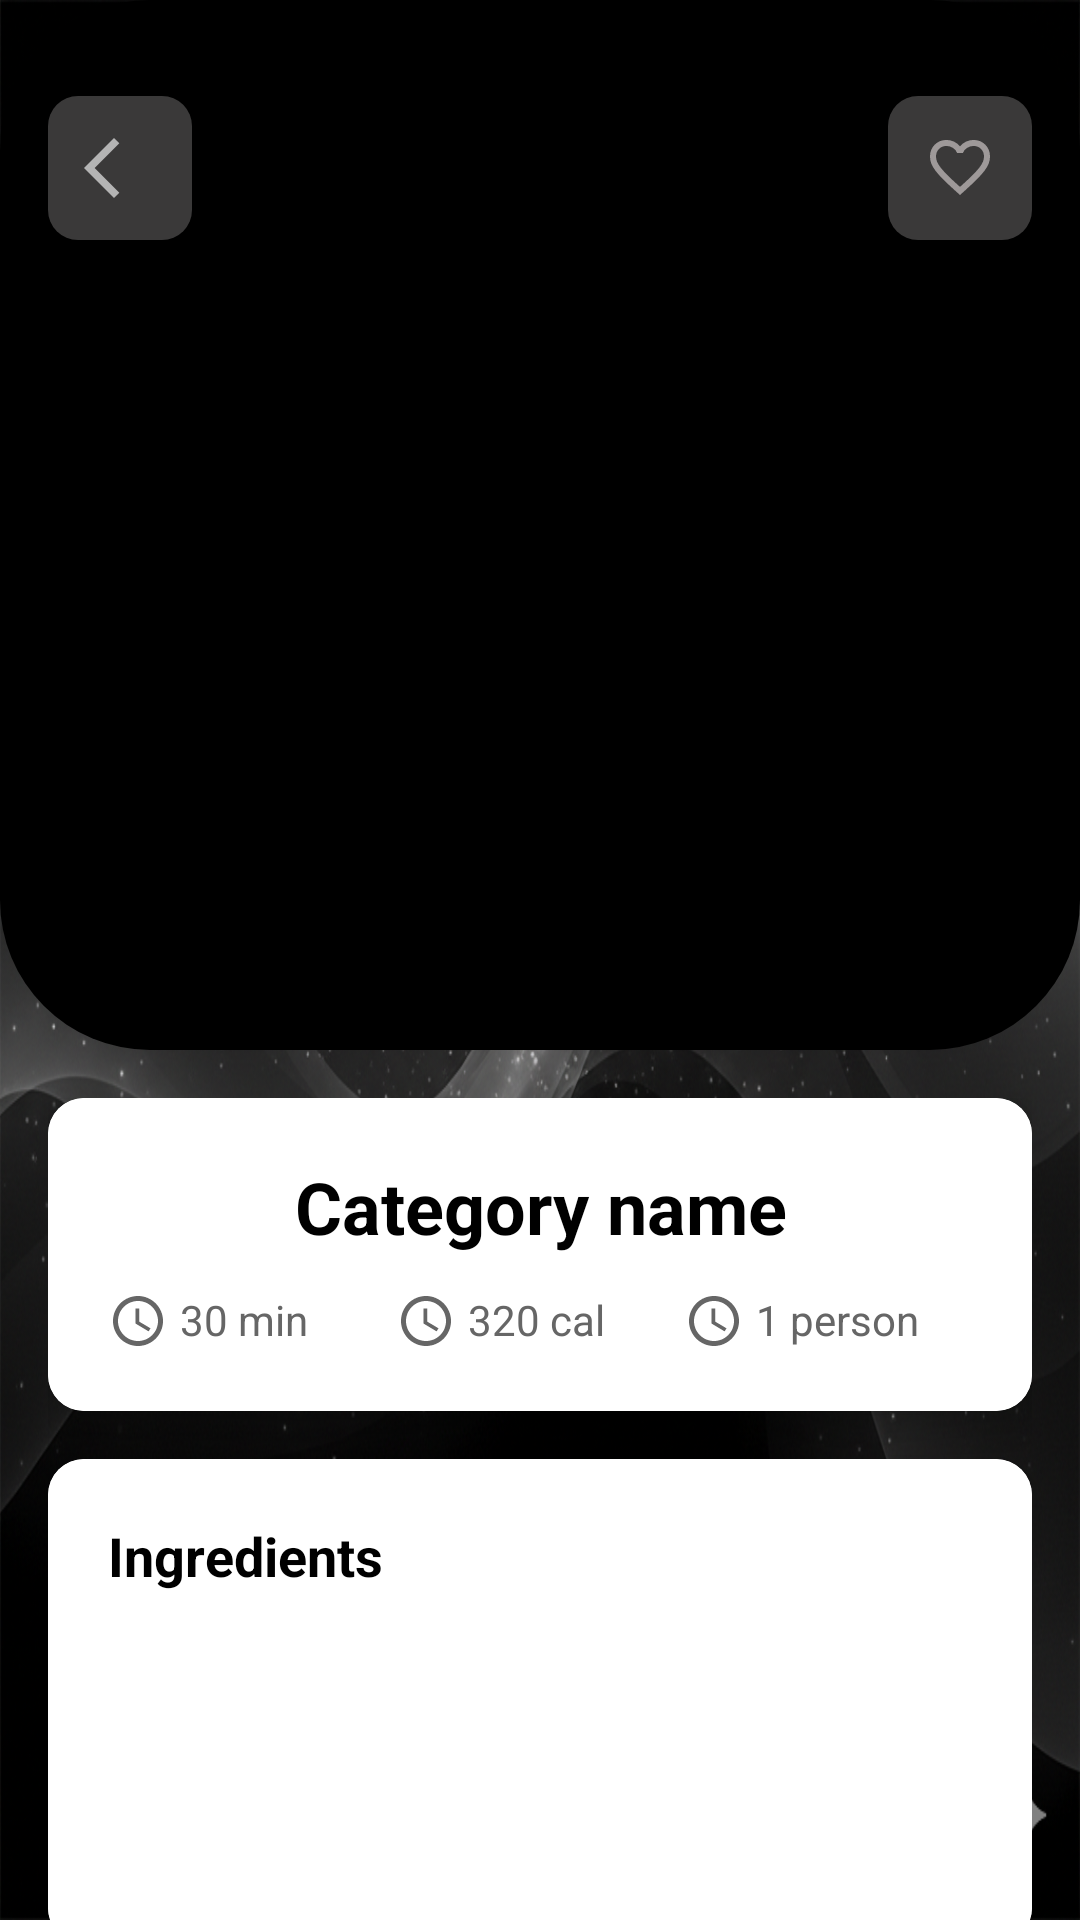

Icons on this 1080 × 1920 Android screen, each with its box as (x1, y1, x2, y2):
access time: (113, 1296, 163, 1346), (401, 1296, 451, 1346), (689, 1296, 739, 1346)
Add to favourites: (888, 96, 1032, 240)
Back: (48, 96, 192, 240)
